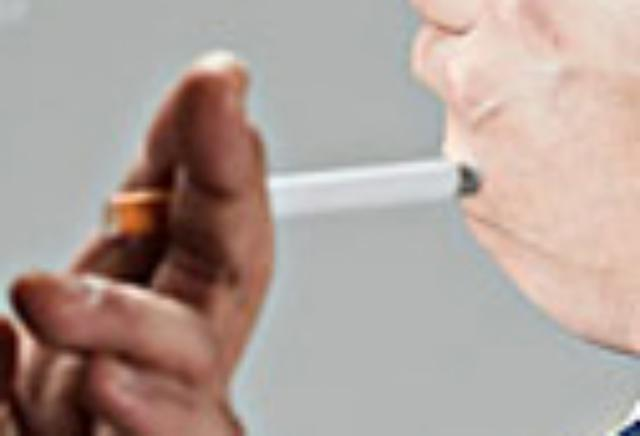Smoking: (107, 159, 481, 239)
